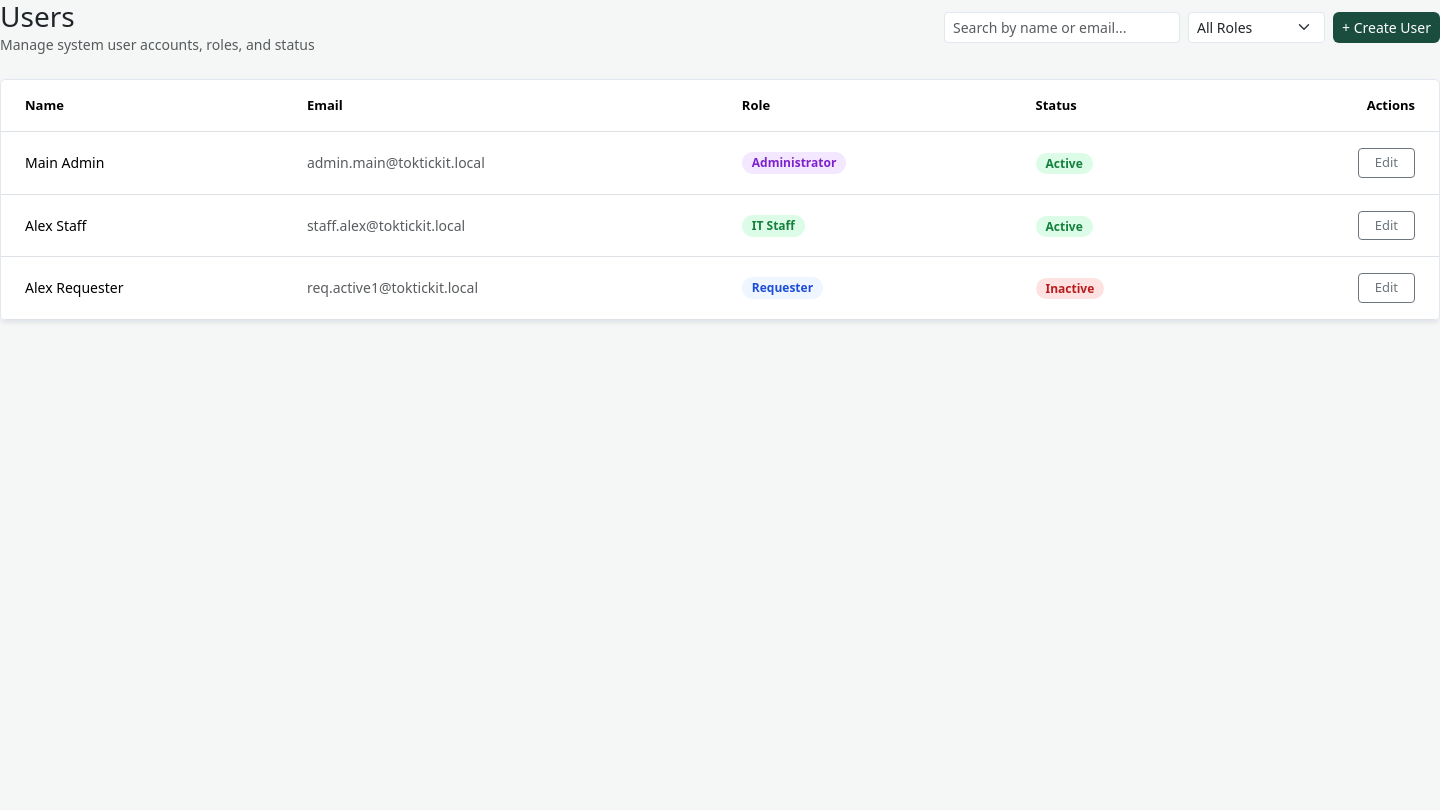
Test: UI-06, UI-07, UI-08: Administrator User Management Component Tests › UI-07: displays invalid role 400 error message
Click the button with test id "create-user-btn" at x=1386, y=27, box [1333, 12, 1439, 43]
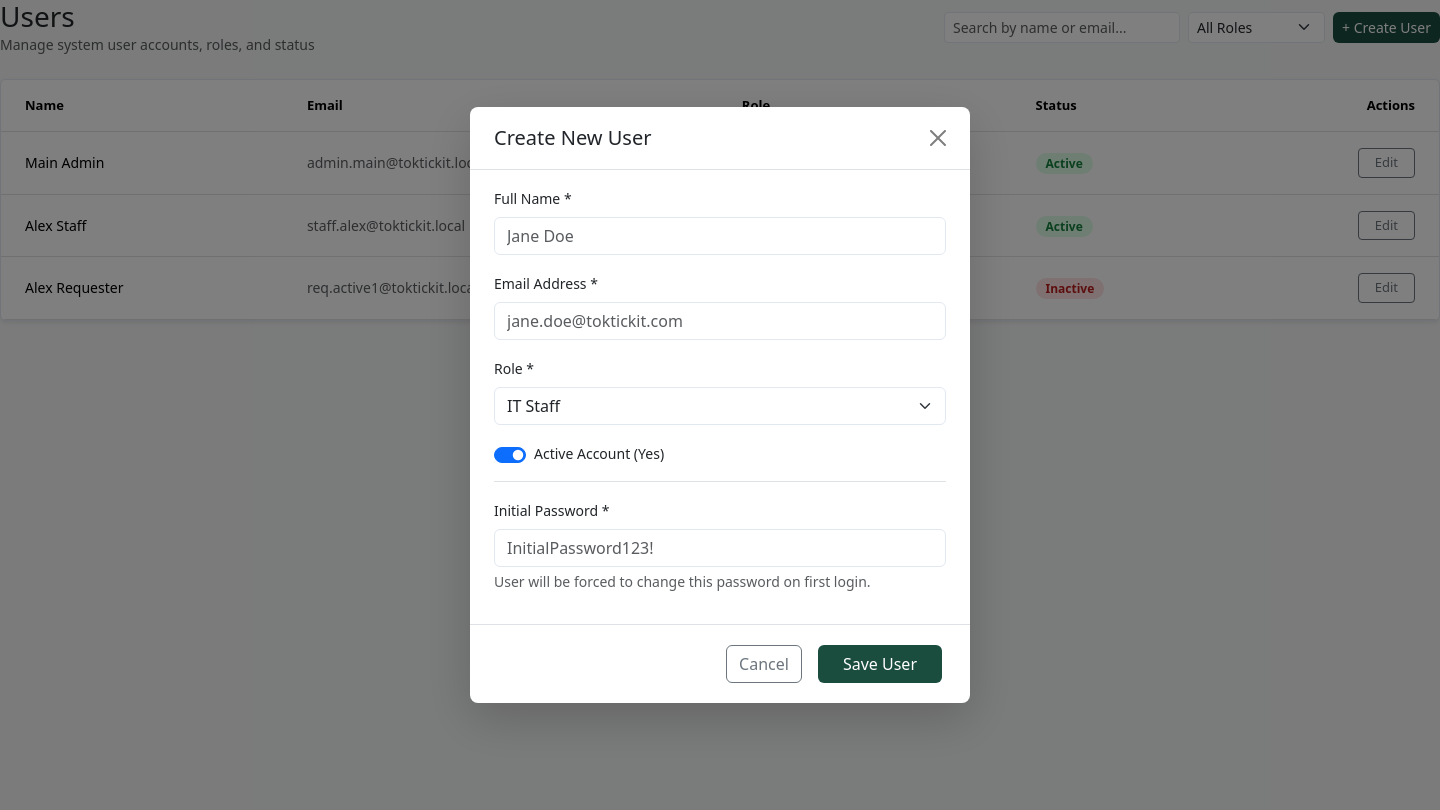
Type "Role Error User" into the field with test id "input-name" at x=720, y=236, box [494, 217, 946, 255]
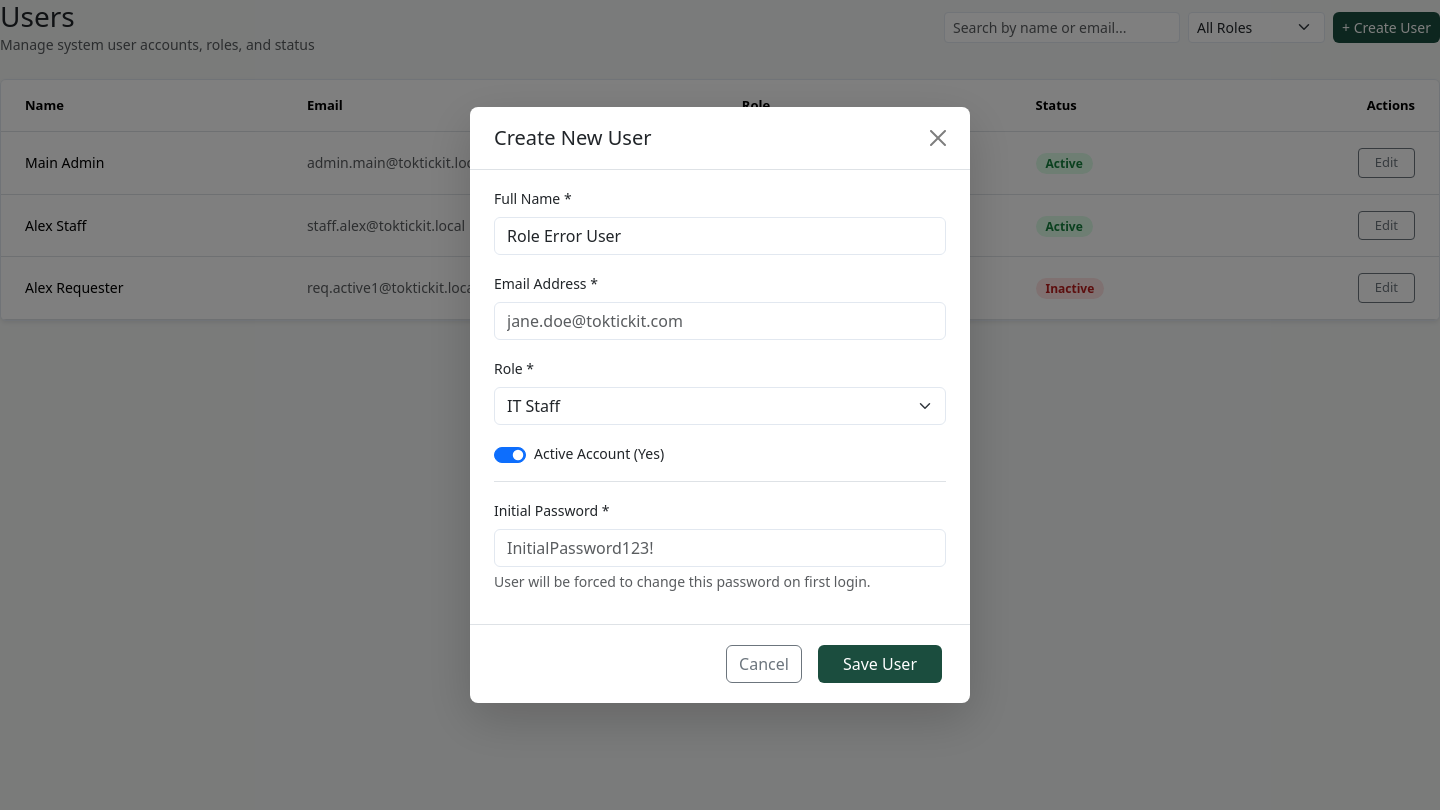
Type "role.error@toktickit.com" into the field with test id "input-email" at x=720, y=321, box [494, 302, 946, 340]
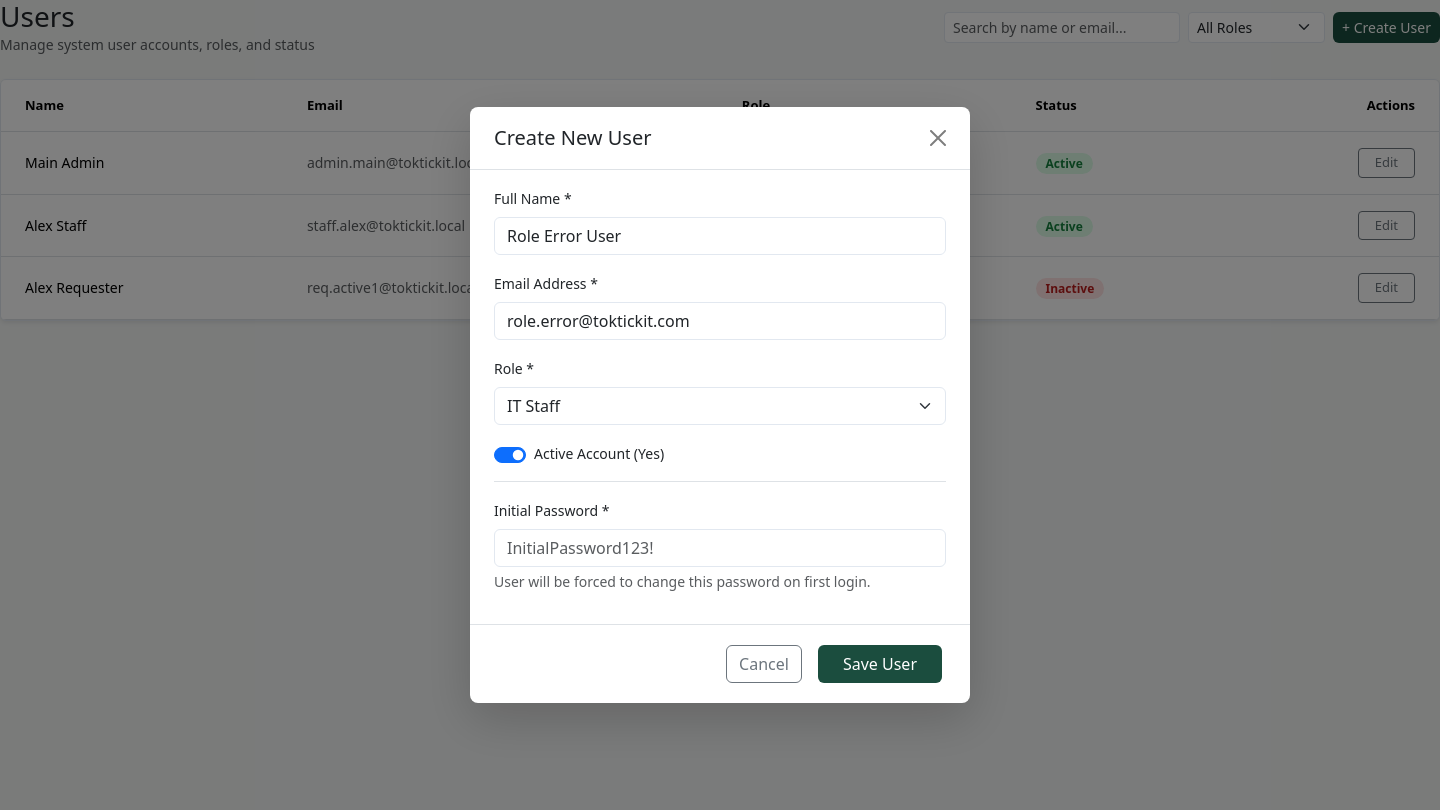
Type "InitialPassword123!" into the password field with test id "input-password" at x=720, y=548, box [494, 529, 946, 567]
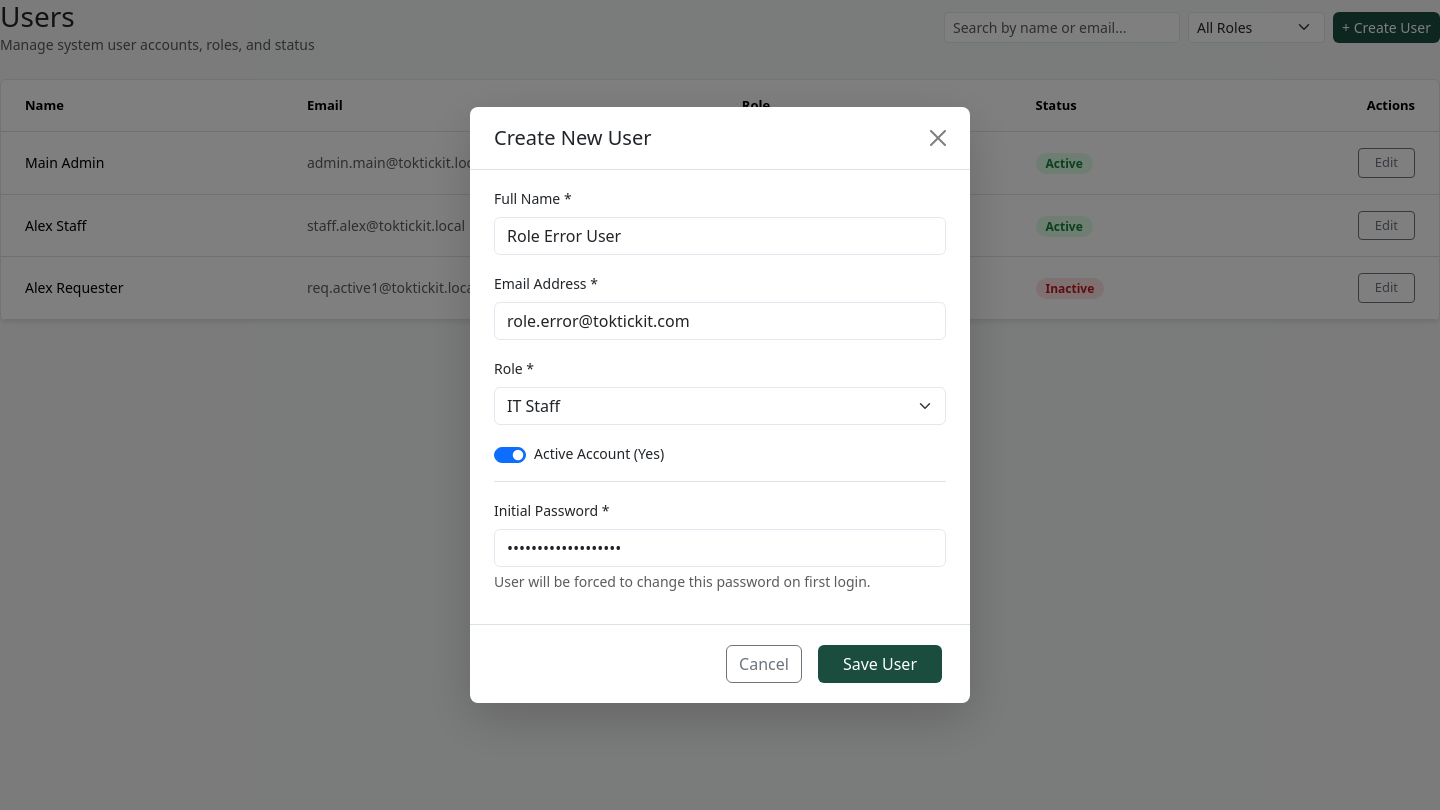
Click the button with test id "btn-save-user" at x=880, y=664, box [818, 645, 942, 683]
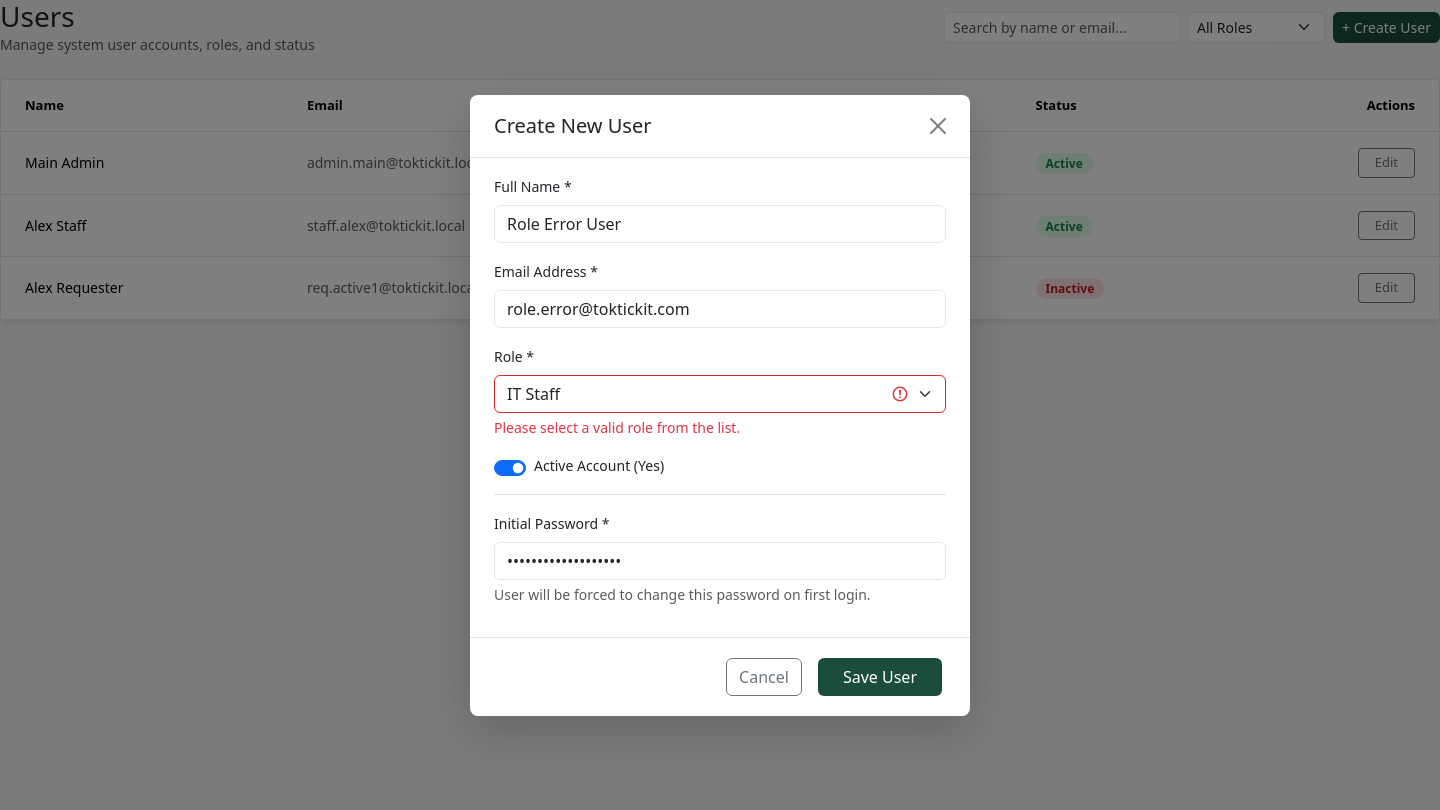
Expected: the text with test id "role-error" reads "Please select a valid role from the list.", [494, 418, 740, 436]
